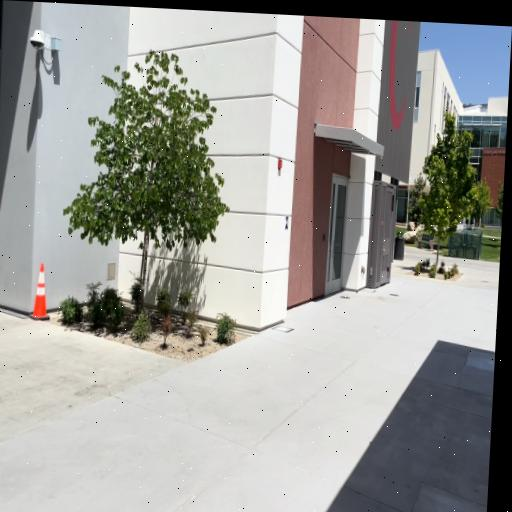target9: (284, 217, 289, 229)
